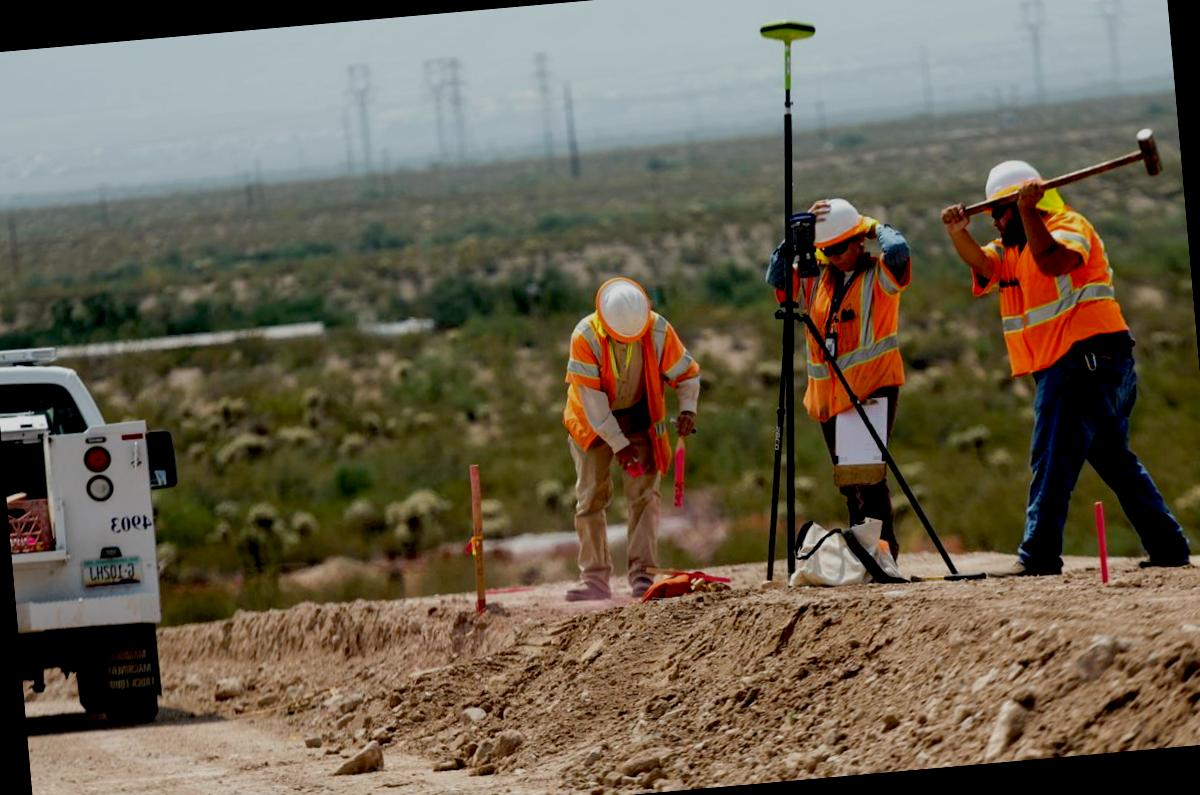helmet: (962, 148, 1062, 226), (796, 188, 885, 263), (594, 272, 654, 346)
person: (962, 146, 1160, 568), (771, 181, 945, 558), (546, 266, 718, 597)
